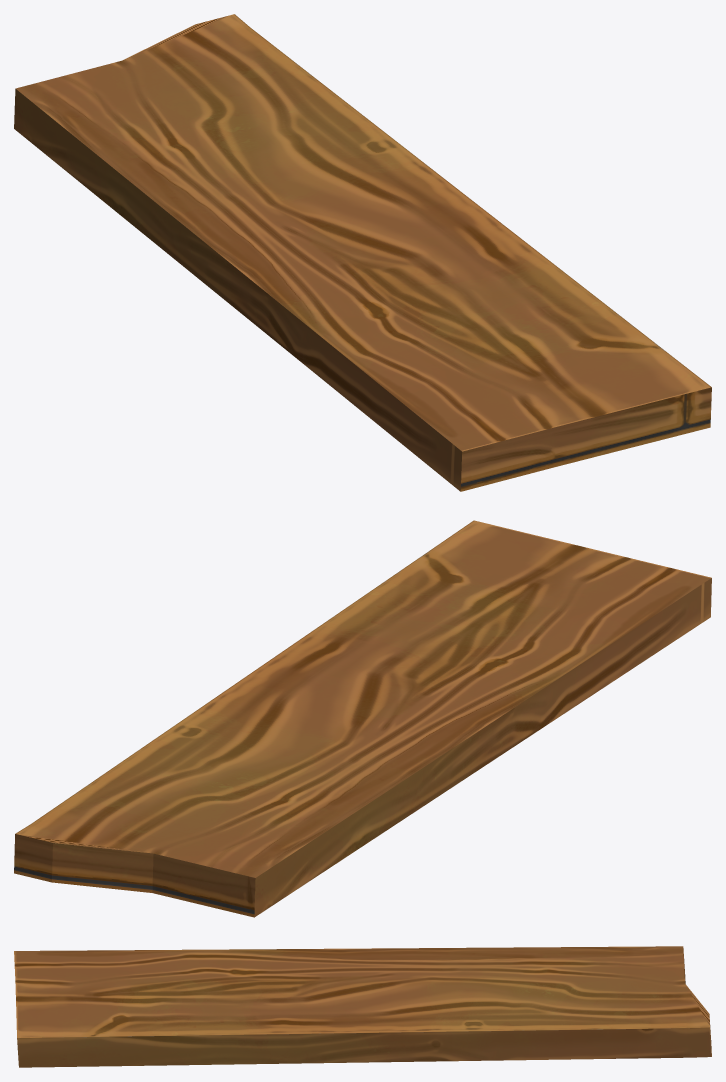
The picture shows the model from 3 angles, top to bottom: view 1: azimuth 30°, elevation 25°; view 2: azimuth 150°, elevation 25°; view 3: azimuth 270°, elevation 25°; orthographic projection. The views are drawn at different scales.
Parts seen in each view (by area): view 1: Cube.473; view 2: Cube.473; view 3: Cube.473.
Part boxes in pixels (left/top/right/bottom): Cube.473: left=14, top=14, right=711, bottom=491; Cube.473: left=14, top=520, right=711, bottom=917; Cube.473: left=14, top=946, right=711, bottom=1067.
Size of the model in its own units: 70.02 by 15.65 by 229.
Materials: 1 (1 with a texture image).
